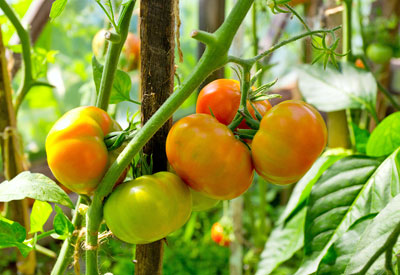tomato: (164, 113, 253, 198), (44, 106, 127, 191), (105, 171, 195, 246), (252, 97, 320, 186)
